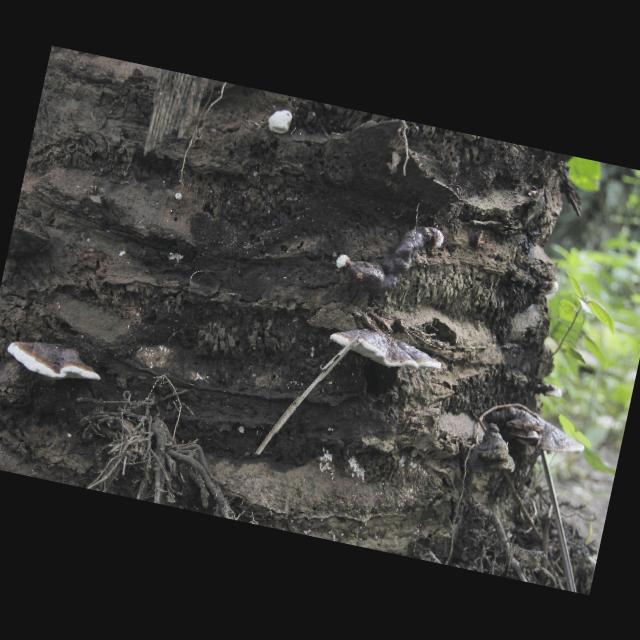ganoderma: (344, 212, 432, 303), (326, 320, 447, 379), (3, 334, 107, 392), (520, 412, 591, 460), (500, 406, 549, 444), (535, 382, 565, 400)
primordium: (266, 107, 296, 138), (537, 278, 561, 299), (427, 227, 446, 252), (335, 253, 350, 271), (173, 192, 184, 203)
